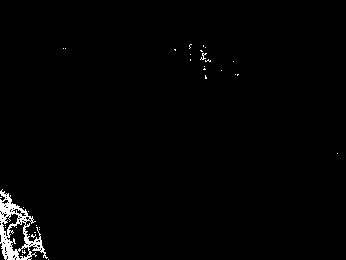person: (1, 190, 46, 260)
